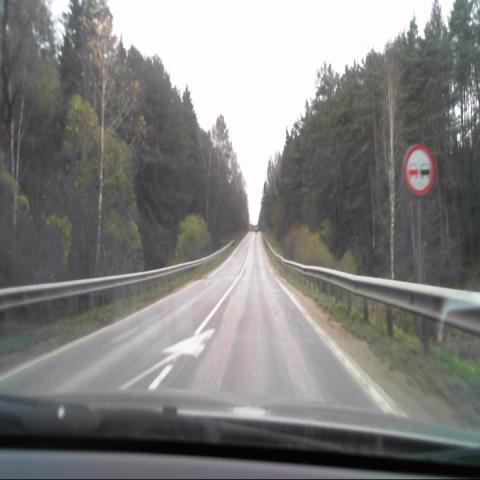3_20: (404, 145, 434, 194)
